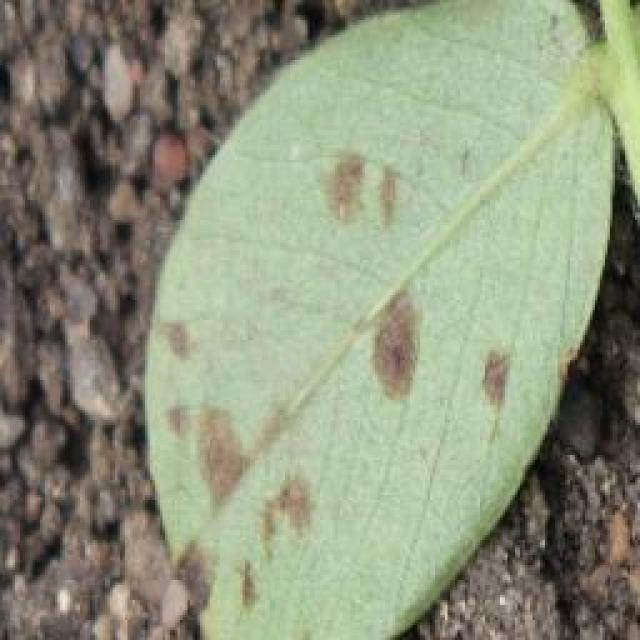Whitefly: (107, 123, 529, 640)
